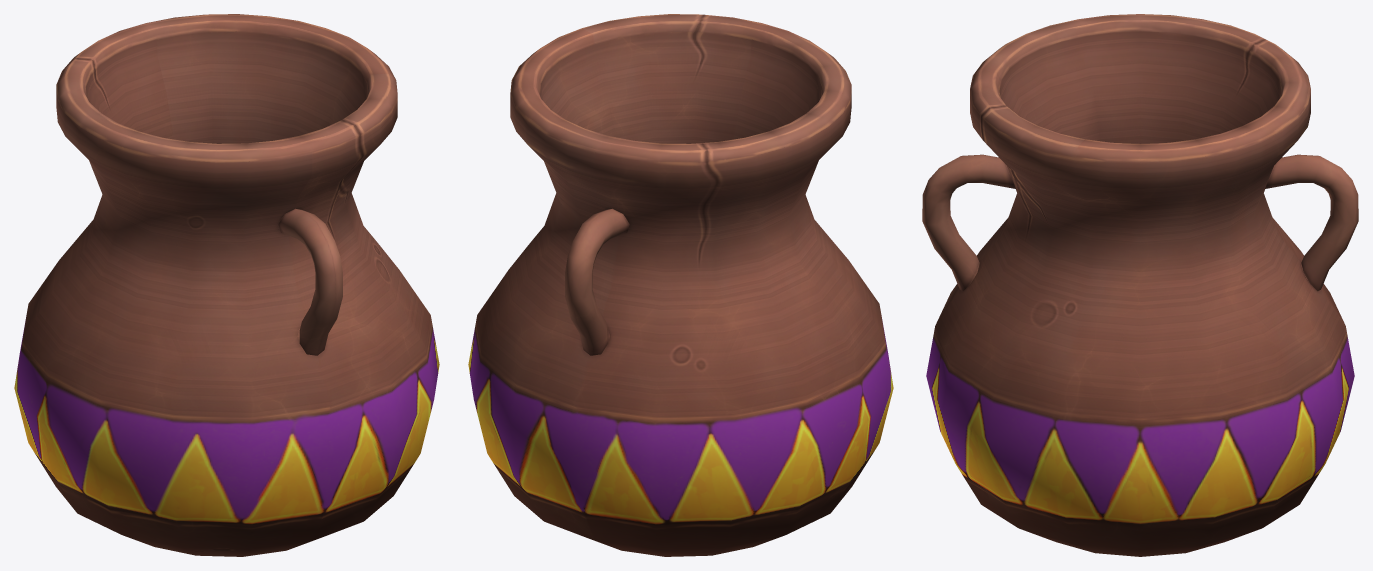
Rendered from SM_Small_Vase.fbx.
The picture shows the model from 3 angles, left to right: view 1: azimuth 30°, elevation 25°; view 2: azimuth 150°, elevation 25°; view 3: azimuth 270°, elevation 25°; orthographic projection.
Parts seen in each view (by area): view 1: SM_Small_Vase_LOD0; view 2: SM_Small_Vase_LOD0; view 3: SM_Small_Vase_LOD0.
Boxes of the visible parts, <box> form: SM_Small_Vase_LOD0: <box>14,14,439,556</box>; SM_Small_Vase_LOD0: <box>468,14,893,556</box>; SM_Small_Vase_LOD0: <box>922,14,1358,556</box>.
Bounding box in the file's own units: 42.44 × 43.22 × 46.35.
Materials: 1 (1 with a texture image).
